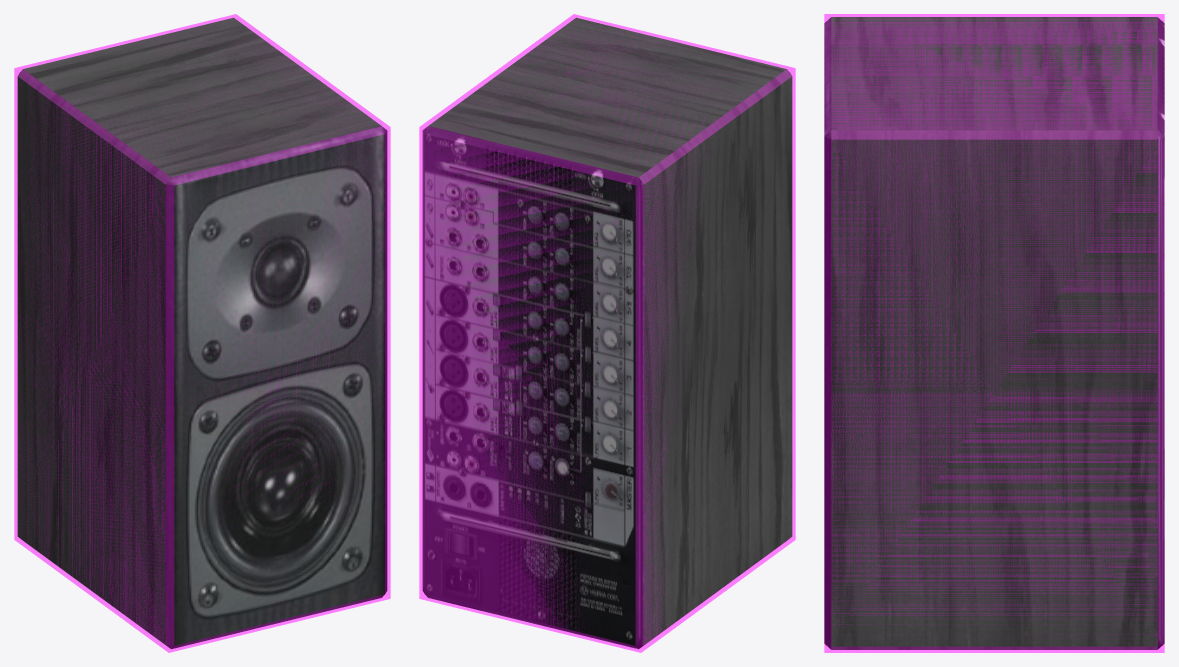
The model's file is speaker.fbx.
3 views of the same model, side by side, from view 1: azimuth 30°, elevation 25°; view 2: azimuth 150°, elevation 25°; view 3: azimuth 270°, elevation 25° (orthographic). The views are drawn at different scales.
Visible parts, largest first — view 1: speaker, boundingbox; view 2: speaker, boundingbox; view 3: speaker, boundingbox.
Boxes of the visible parts, x1,y1,x2,y2 form: speaker: [17, 17, 387, 649]; boundingbox: [14, 14, 390, 652]; speaker: [422, 17, 792, 649]; boundingbox: [419, 14, 795, 652]; speaker: [824, 17, 1164, 649]; boundingbox: [824, 14, 1164, 652].
Bounding box in the file's own units: 9.84 × 20 × 11.86.
Materials: 4 (3 with a texture image).
